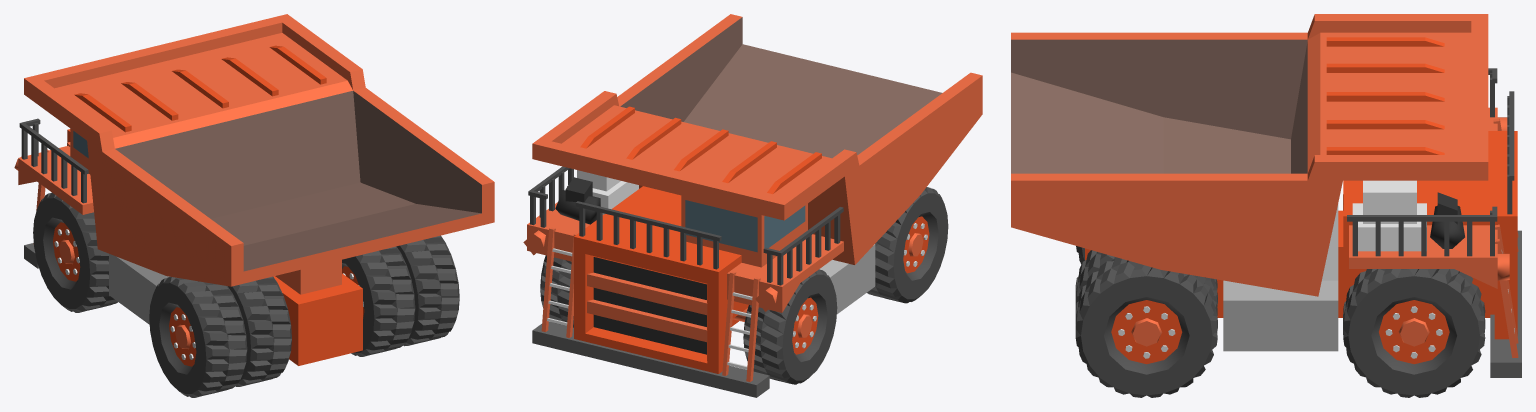
File: dump-mini.glb
The picture shows the model from 3 angles, left to right: view 1: azimuth 30°, elevation 25°; view 2: azimuth 150°, elevation 25°; view 3: azimuth 270°, elevation 25°; orthographic projection. The views are drawn at different scales.
Parts seen in each view (by area): view 1: object 1, dump_truck_wheel_008, dump_truck_wheel_009, dump_truck_wheel_012, dump_truck_wheel_011; view 2: object 1, dump_truck_wheel_009, dump_truck_wheel_008, dump_truck_wheel_010; view 3: object 1, dump_truck_wheel_011, dump_truck_wheel_010, dump_truck_wheel_012.
Boxes of the visible parts, box(x1,y1,x2,y2) form: object 1: box(14, 14, 494, 386); dump_truck_wheel_008: box(149, 276, 247, 397); dump_truck_wheel_009: box(33, 192, 117, 312); dump_truck_wheel_012: box(342, 246, 415, 356); dump_truck_wheel_011: box(396, 235, 459, 346); object 1: box(523, 14, 982, 397); dump_truck_wheel_009: box(743, 269, 837, 384); dump_truck_wheel_008: box(867, 187, 948, 303); dump_truck_wheel_010: box(540, 255, 573, 327); object 1: box(1011, 14, 1521, 377); dump_truck_wheel_011: box(1075, 257, 1217, 397); dump_truck_wheel_010: box(1343, 269, 1485, 397); dump_truck_wheel_012: box(1075, 250, 1217, 309).
Size of the model in its own units: 9.24 by 6.92 by 13.31.
Materials: 1 (1 with a texture image).
